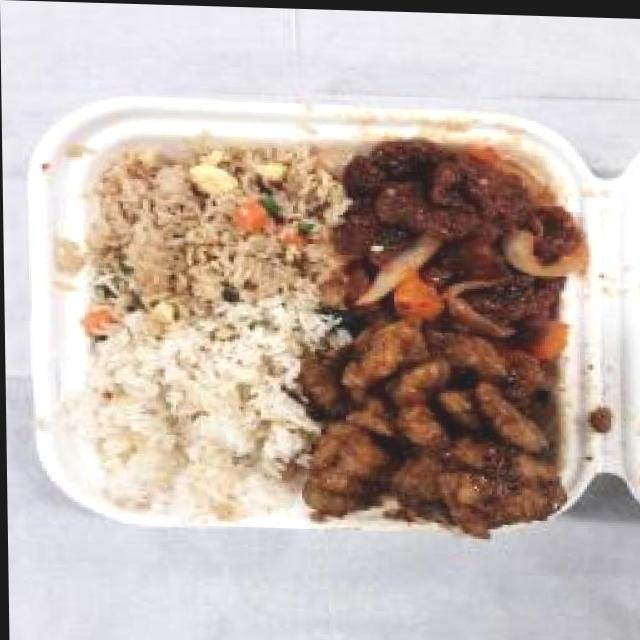Beijing Beef: (314, 132, 587, 332)
Fried Rice: (82, 134, 332, 318)
The Original Orange Chicken: (292, 312, 569, 533)
White Steamed Rice: (82, 307, 309, 515)
